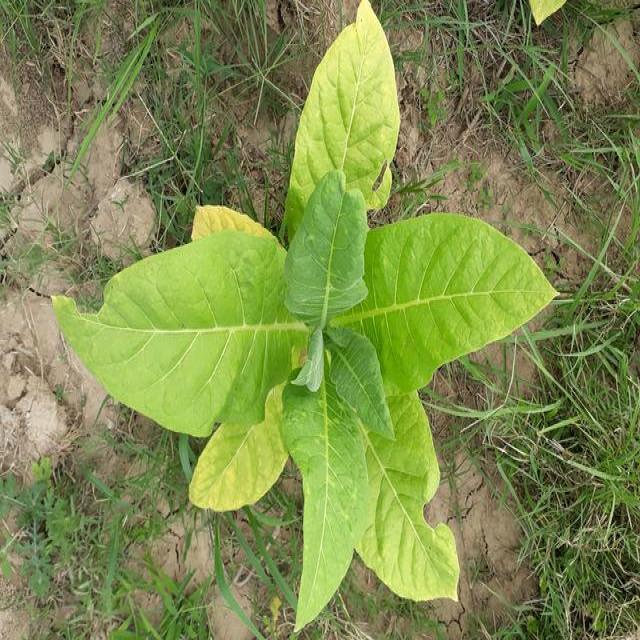crop: (78, 4, 546, 624)
